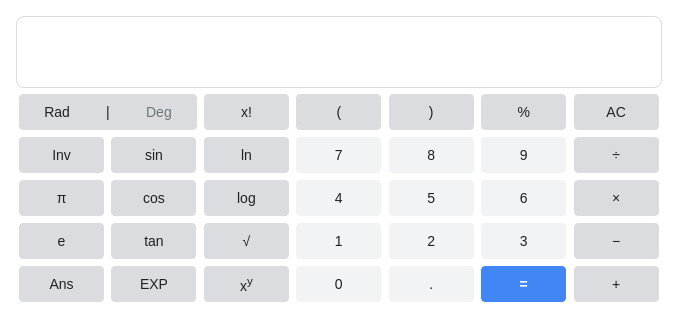
AppComponent › should show the ans expression once we have inputs
The image size is (679, 319).
Step 1. Click the button with test id "log" → (246, 198), box [204,180,289,216]
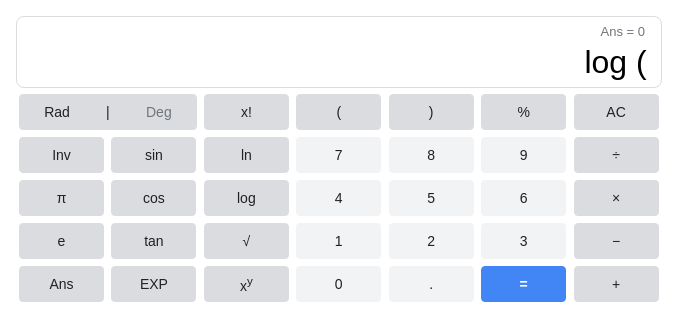
Expected: the text "Ans = 0" is shown, [600,24,645,39]
